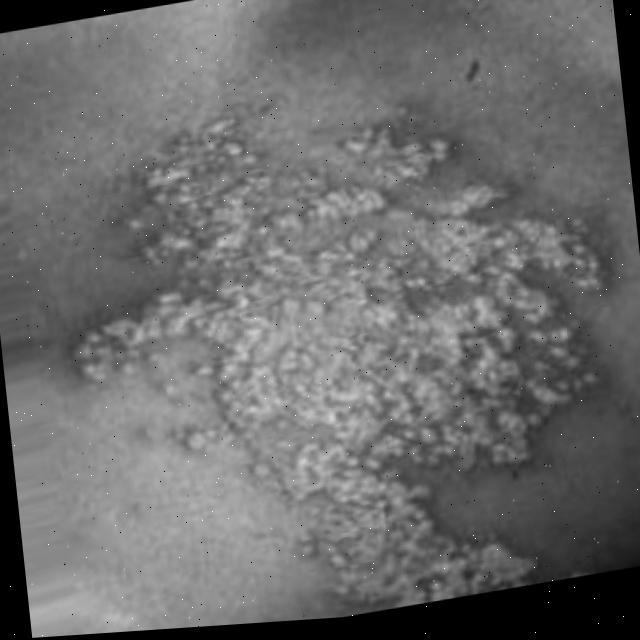Shingles: (52, 54, 640, 637)
